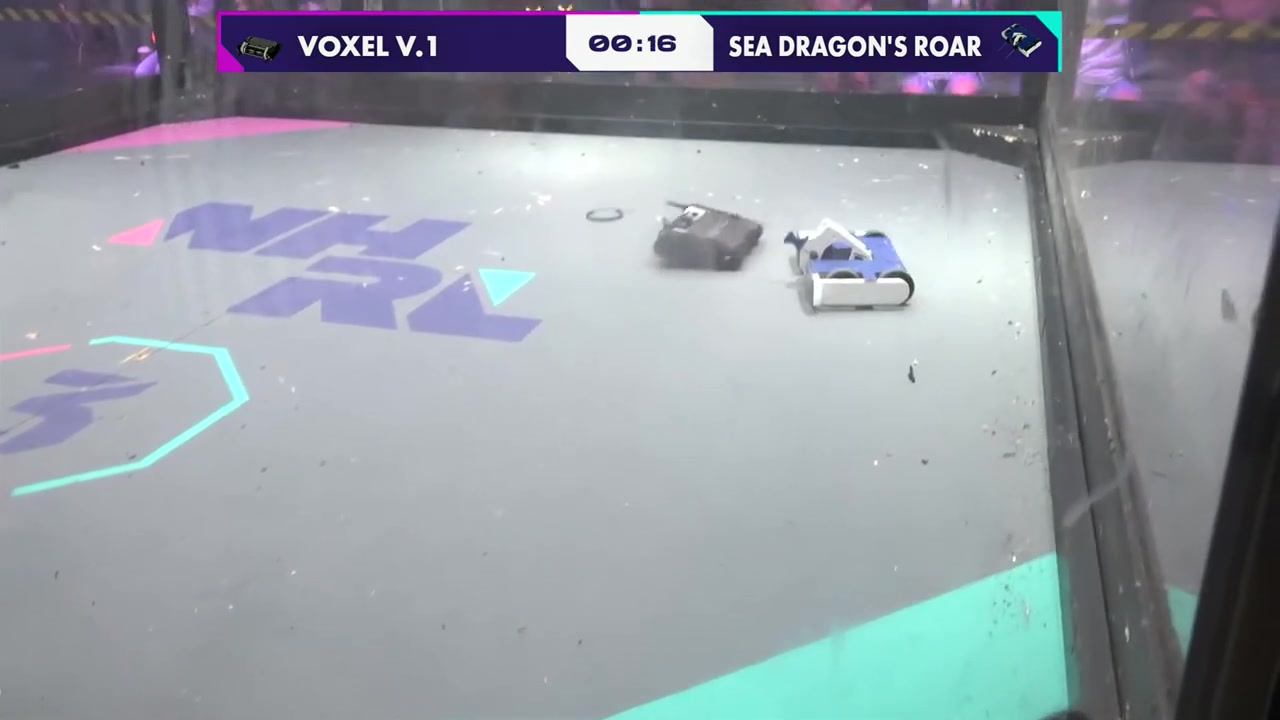belt: (585, 205, 626, 225)
combatbot: (781, 222, 915, 316), (652, 198, 765, 278)
